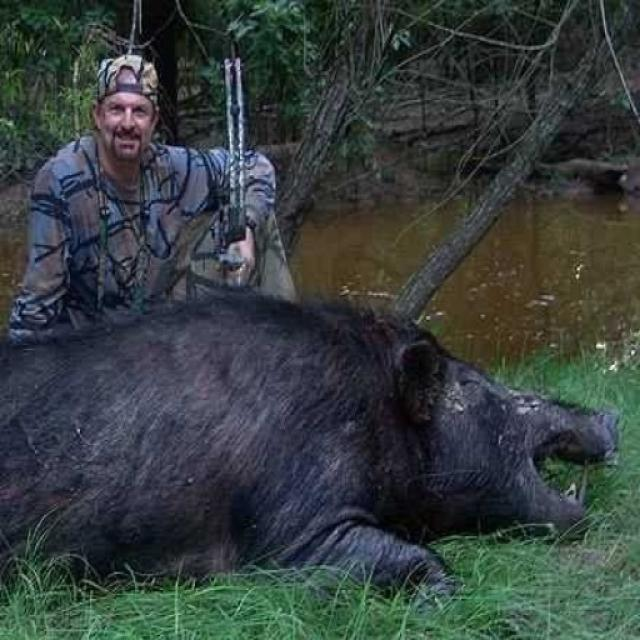pig: (0, 298, 631, 622)
